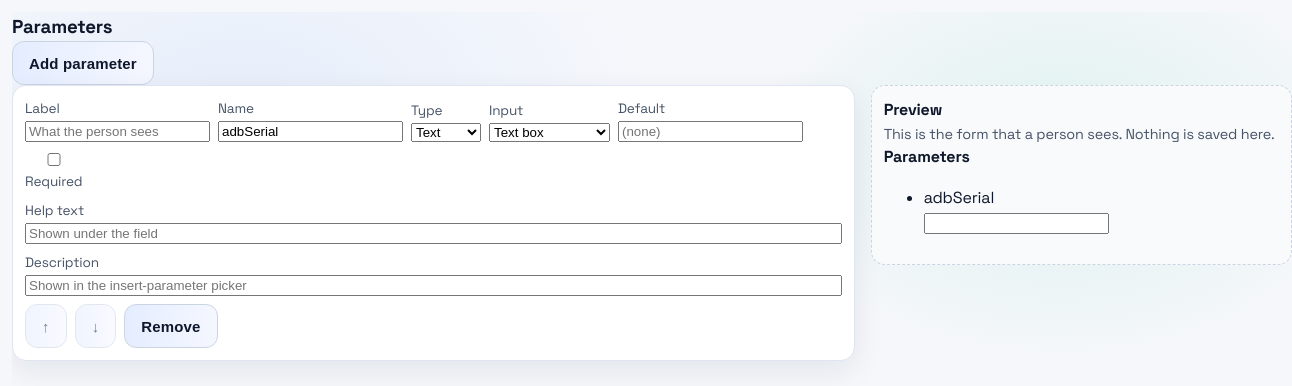
Test: ParameterDeclarationList › removes a parameter
Click the button with aria-label "Remove adbSerial". click: {"x": 171, "y": 326}
box: x1=124 y1=304 x2=218 y2=348
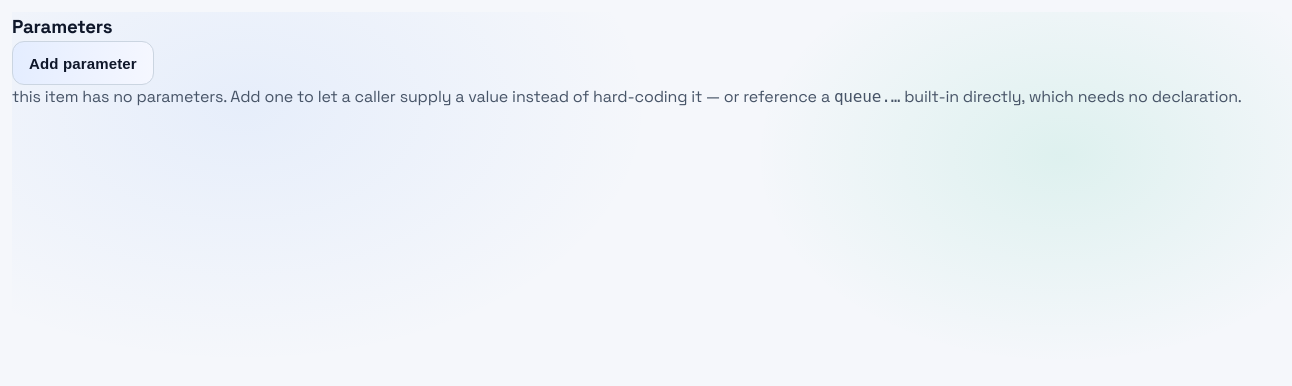
Result: the field labelled "Parameter 1 name" is gone
